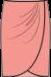Hemline: (2, 70, 50, 76)
Waistline: (4, 0, 45, 2)
